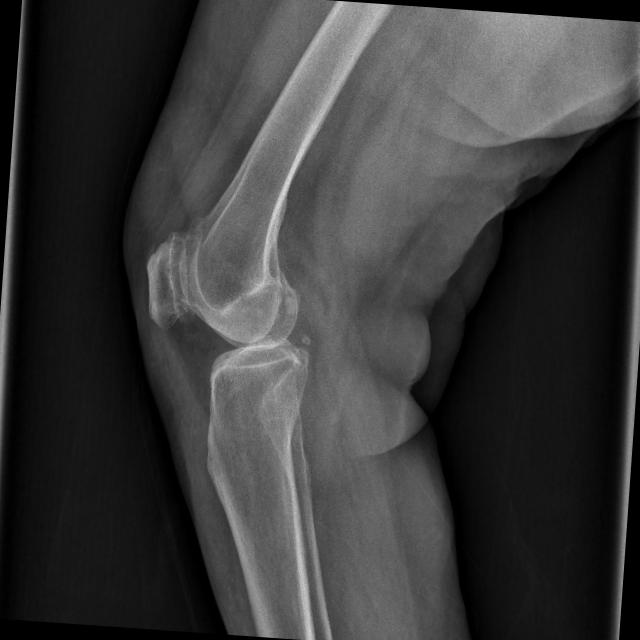Knee: (132, 218, 318, 414)
